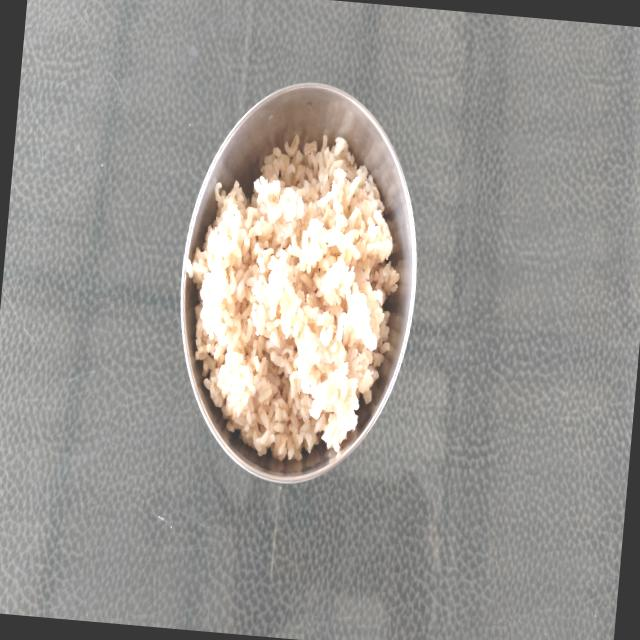brown-rice: (185, 135, 398, 460)
